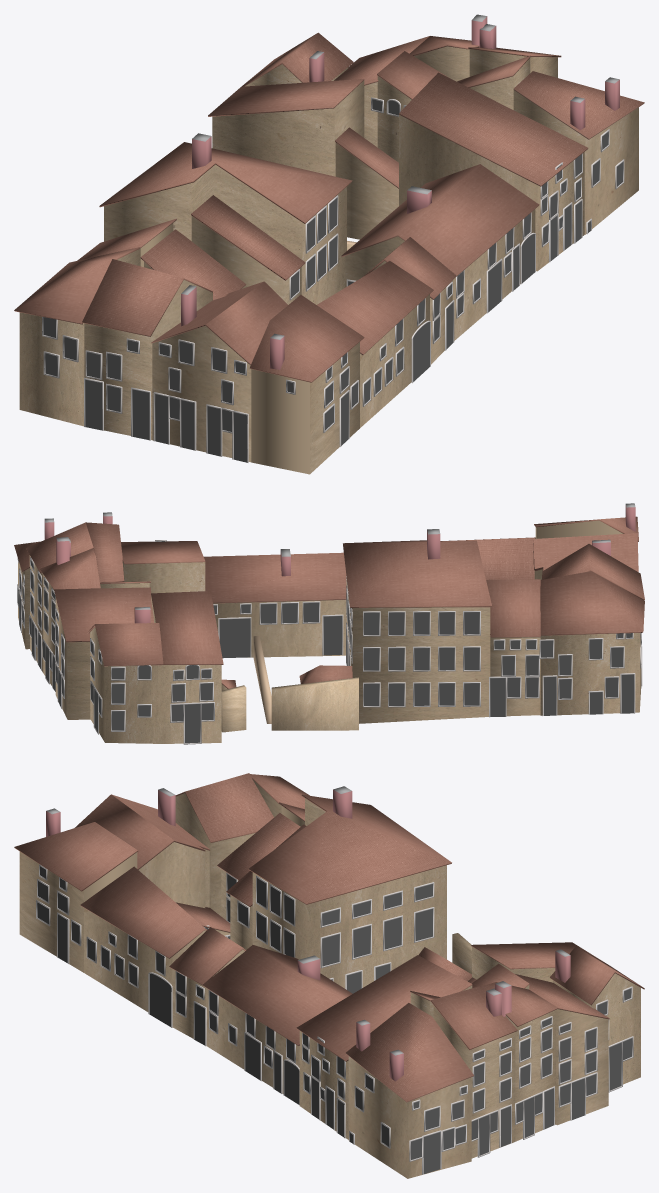
Rendered from ilot24combine.fbx.
3 views of the same model, one above another, from view 1: azimuth 30°, elevation 25°; view 2: azimuth 150°, elevation 25°; view 3: azimuth 270°, elevation 25° (orthographic). The views are drawn at different scales.
Visible parts, largest first — view 1: _ILOT24BAT2, _ILOT24BAT15, _ILOT24BAT13, _ILOT24BAT1, _ILOT24BAT11, _ILOT24BAT9, _ILOT24BAT25, _ILOT24BAT4, _ILOT24BAT10, _ILOT24BAT12, _ILOT24BAT3, _ILOT24BAT21 (+7 smaller); view 2: _ILOT24BAT2, _ILOT24BAT9, _ILOT24BAT4, _ILOT24BAT13, _ILOT24BAT18, _ILOT24BAT24, MUR7, _ILOT24BAT15, _ILOT24BAT23, _ILOT24BAT22, _ILOT24BAT1, _ILOT24BAT25 (+7 smaller); view 3: _ILOT24BAT2, _ILOT24BAT10, _ILOT24BAT13, _ILOT24BAT12, _ILOT24BAT11, _ILOT24BAT15, _ILOT24BAT9, _ILOT24BAT22, _ILOT24BAT1, _ILOT24BAT24, _ILOT24BAT23, _ILOT24BAT25 (+7 smaller).
Boxes of the visible parts, x1,y1,x2,y2 form: _ILOT24BAT2: (99, 133, 352, 304); _ILOT24BAT15: (399, 72, 588, 271); _ILOT24BAT13: (341, 164, 539, 340); _ILOT24BAT1: (151, 281, 287, 462); _ILOT24BAT11: (250, 295, 364, 474); _ILOT24BAT9: (208, 32, 364, 176); _ILOT24BAT25: (82, 259, 212, 440); _ILOT24BAT4: (14, 247, 140, 426); _ILOT24BAT10: (513, 71, 644, 234); _ILOT24BAT12: (317, 261, 433, 427); _ILOT24BAT3: (191, 195, 305, 304); _ILOT24BAT21: (371, 51, 530, 162); _ILOT24BAT2: (343, 529, 492, 723); _ILOT24BAT9: (87, 591, 223, 744); _ILOT24BAT4: (539, 571, 644, 715); _ILOT24BAT13: (204, 549, 346, 658); _ILOT24BAT18: (486, 579, 540, 717); _ILOT24BAT24: (54, 587, 153, 719); MUR7: (271, 677, 358, 730); _ILOT24BAT15: (121, 540, 205, 593); _ILOT24BAT23: (40, 537, 100, 691); _ILOT24BAT22: (26, 522, 93, 672); _ILOT24BAT1: (533, 533, 638, 579); _ILOT24BAT25: (541, 544, 644, 686); _ILOT24BAT2: (248, 786, 451, 993); _ILOT24BAT10: (345, 1003, 473, 1178); _ILOT24BAT13: (202, 945, 352, 1104); _ILOT24BAT12: (80, 866, 206, 1027); _ILOT24BAT11: (14, 808, 137, 972); _ILOT24BAT15: (296, 955, 472, 1139); _ILOT24BAT9: (471, 942, 644, 1092); _ILOT24BAT22: (430, 986, 517, 1158); _ILOT24BAT1: (75, 788, 210, 907); _ILOT24BAT24: (515, 974, 609, 1125); _ILOT24BAT23: (480, 981, 557, 1141); _ILOT24BAT25: (175, 773, 273, 915).
Bounding box in the file's own units: 10.79 × 3.01 × 9.2.
